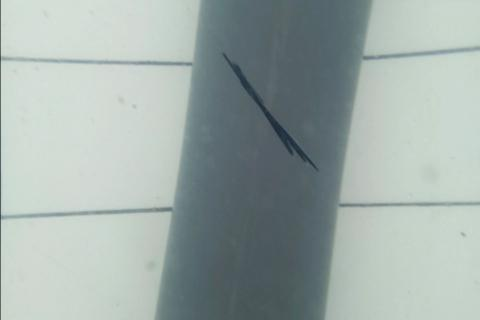keretakan: (220, 52, 320, 175)
